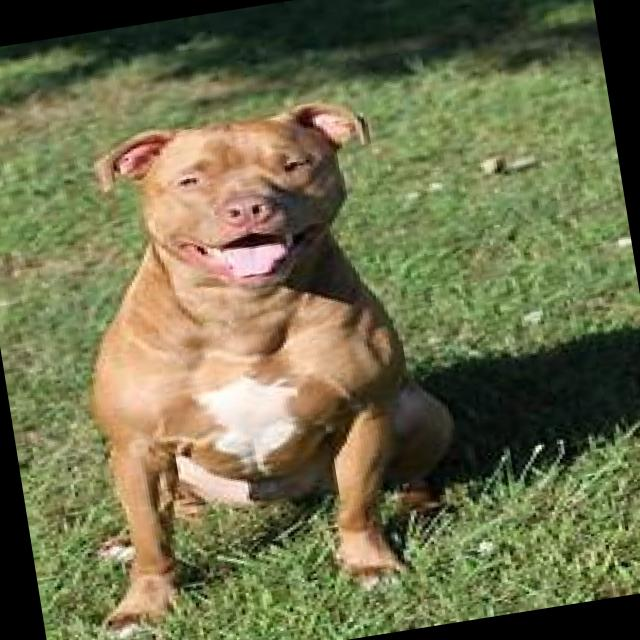dog: (23, 84, 483, 640)
